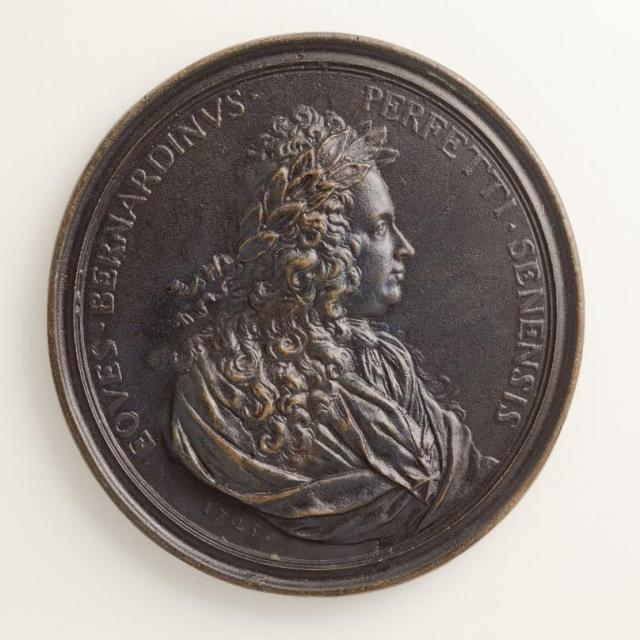Coin: (49, 32, 585, 595)
